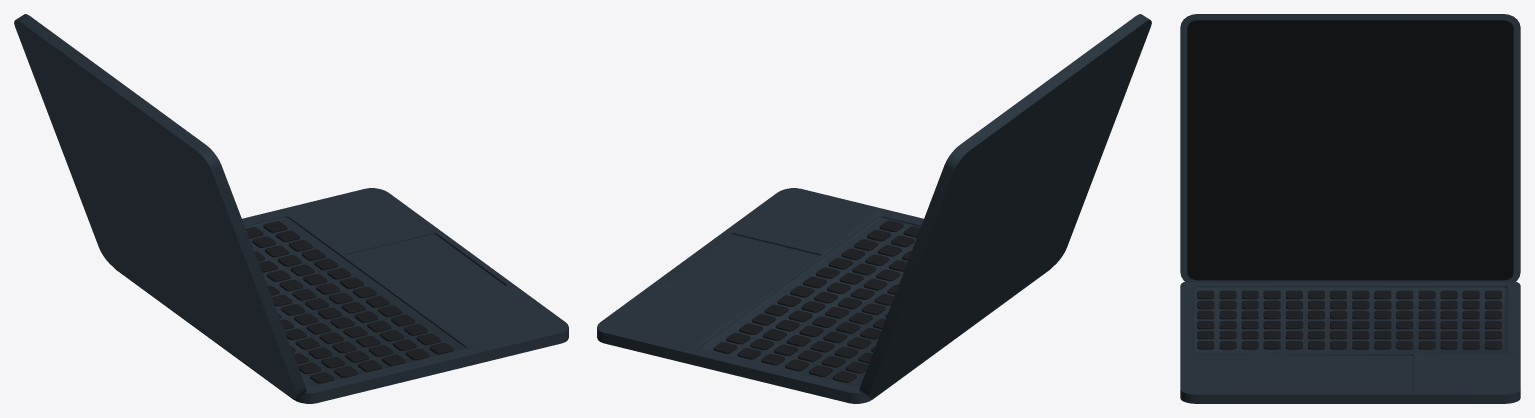
Rendered from laptop.fbx.
The picture shows the model from 3 angles, left to right: view 1: azimuth 30°, elevation 25°; view 2: azimuth 150°, elevation 25°; view 3: azimuth 270°, elevation 25°; orthographic projection. The views are drawn at different scales.
Parts seen in each view (by area): view 1: Cube.002, Cube, Cube.001; view 2: Cube.002, Cube, Cube.001; view 3: Cube.002, Cube, Cube.001.
Part boxes in pixels (box(x1,y1,x2,y2)): Cube.002: box(14, 14, 306, 398); Cube: box(114, 188, 568, 403); Cube.001: box(246, 221, 453, 383); Cube.002: box(859, 14, 1151, 398); Cube: box(597, 188, 1051, 403); Cube.001: box(713, 220, 920, 382); Cube.002: box(1180, 14, 1520, 281); Cube: box(1180, 281, 1520, 403); Cube.001: box(1197, 290, 1501, 349).
Bounding box in the file's own units: 216 × 154 × 200.
